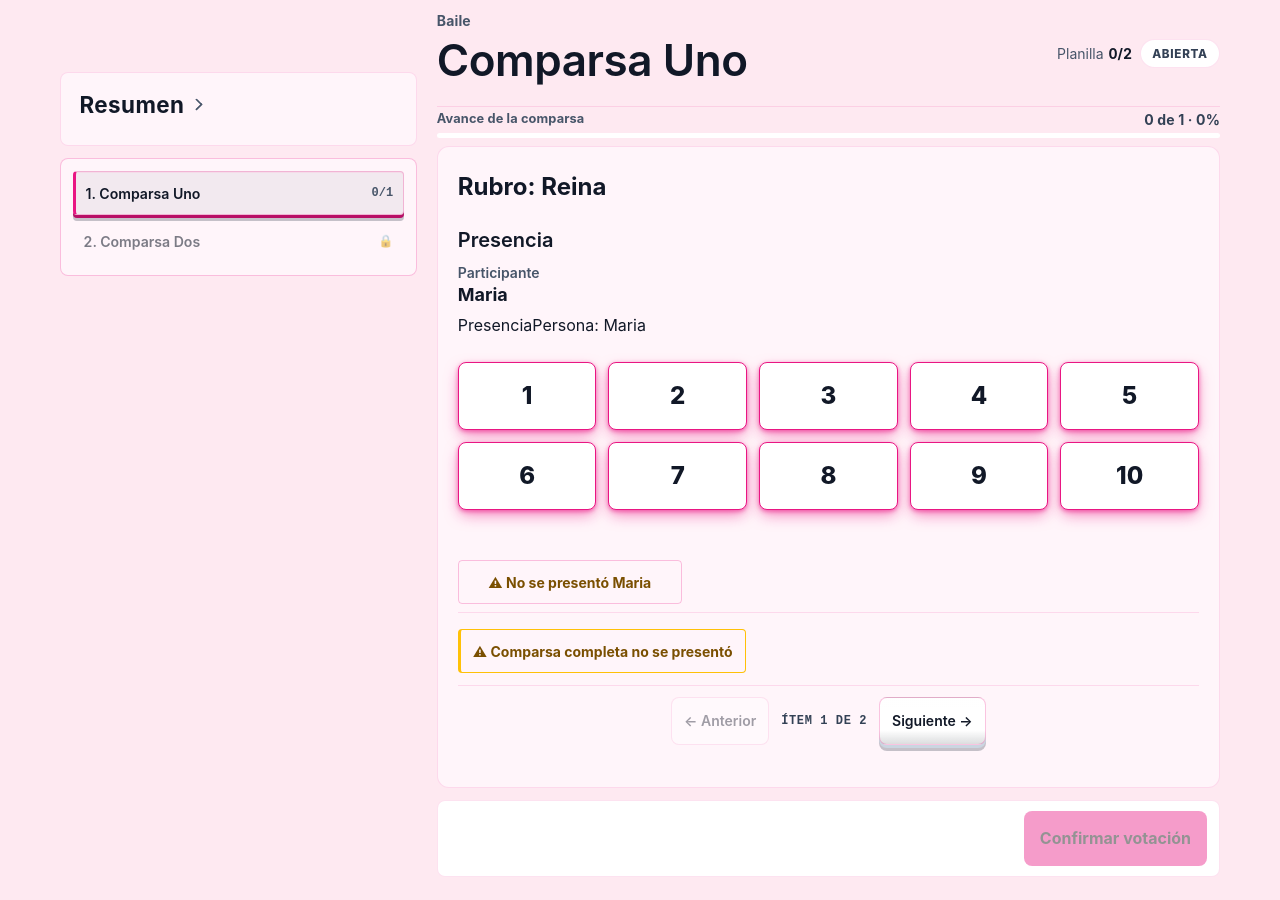
Test: JudgeBallotPage › muestra un único título principal con h1 de apoyo, NP con alerta y modal sólido
Expected: the heading "Comparsa Uno" is shown, [437, 37, 748, 83]
Expected: the text "Participante" is shown, [458, 264, 540, 281]
Note: Modal con el valor en pastilla sólida.
Click the button named "Votar 8" at (828, 476), box [759, 442, 898, 510]
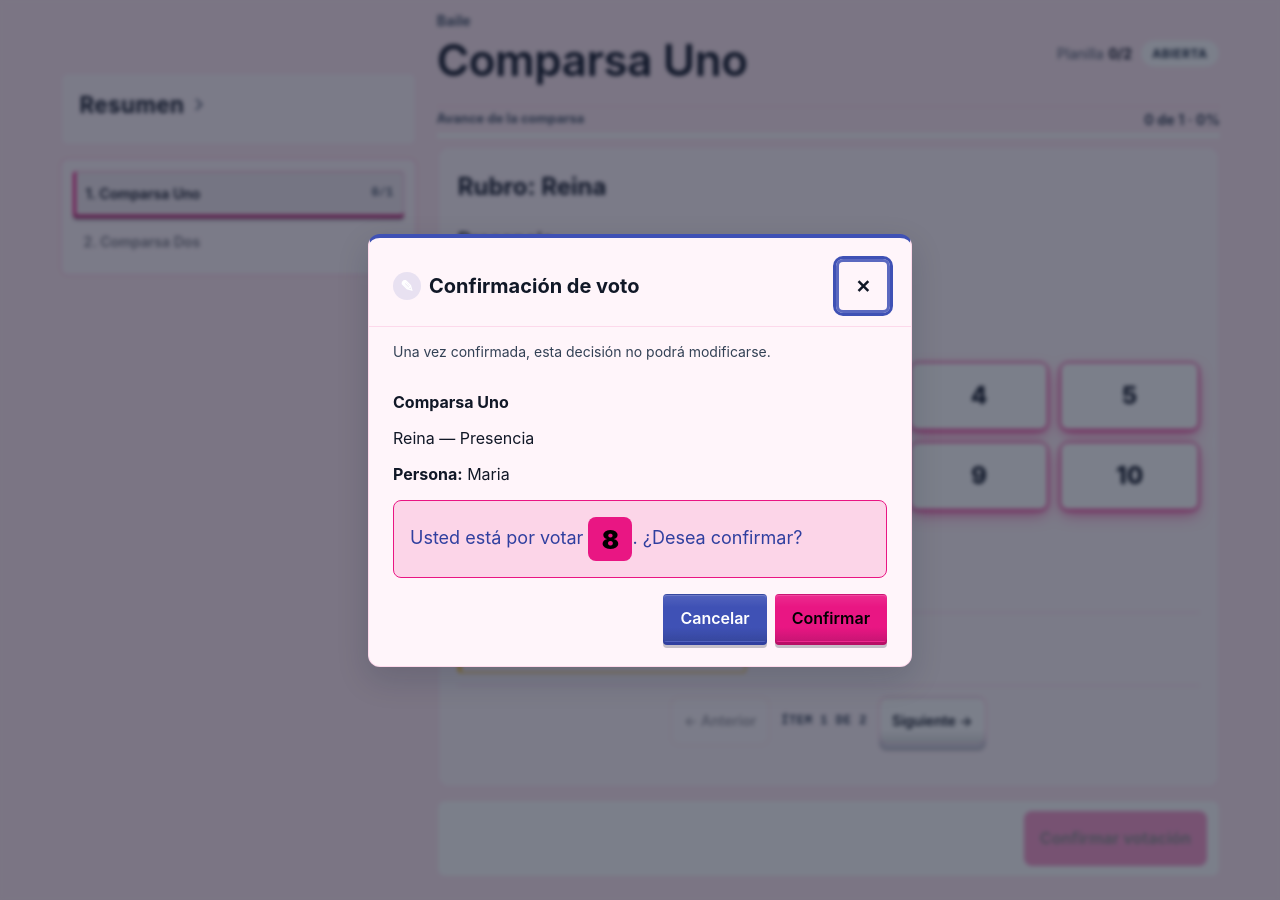
Now the text "8" is shown, box [588, 516, 632, 560]
